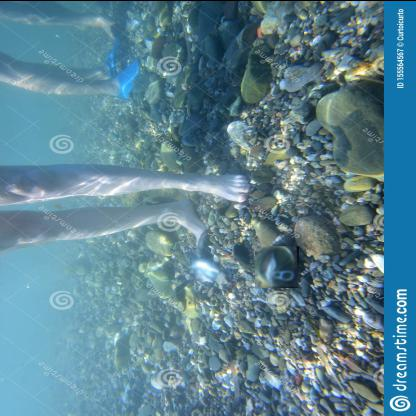can: (255, 244, 300, 287), (190, 256, 222, 280)
